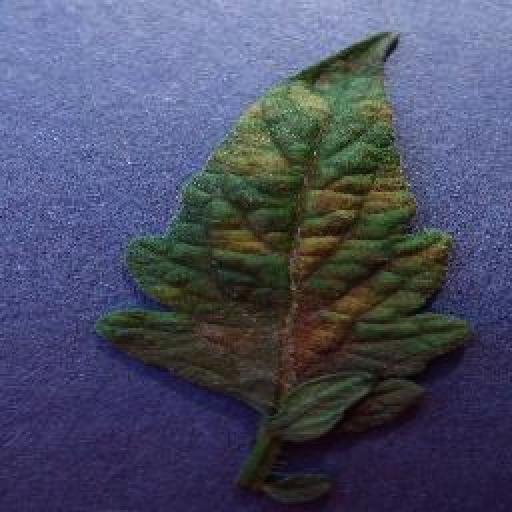disease_tomato: (98, 30, 475, 440)
